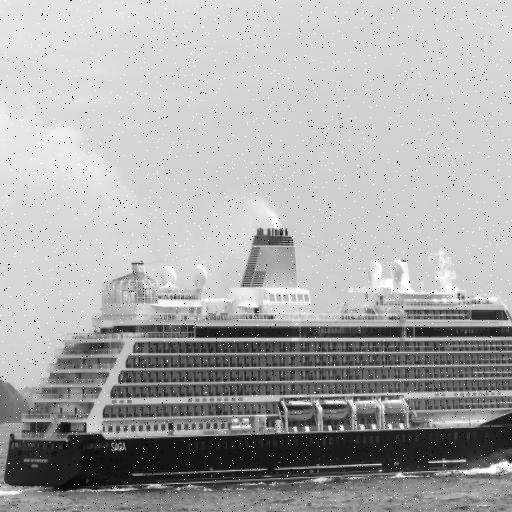cruises: (6, 207, 512, 477)
